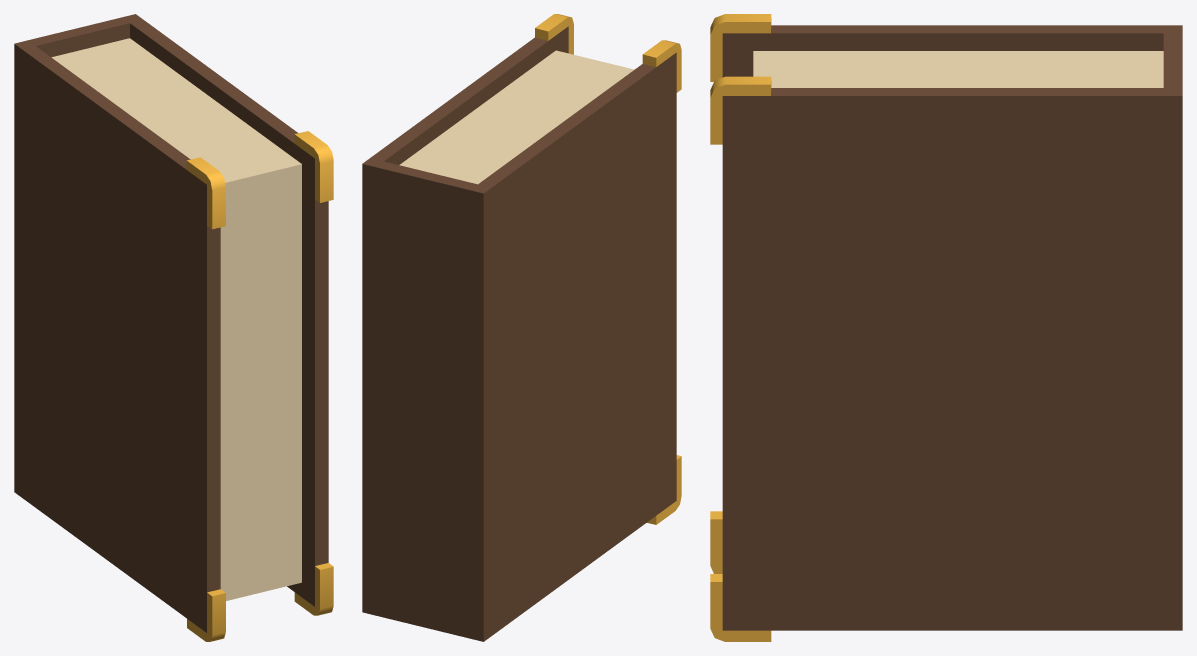
The model's file is Book_2.fbx.
3 views of the same model, side by side, from view 1: azimuth 30°, elevation 25°; view 2: azimuth 150°, elevation 25°; view 3: azimuth 270°, elevation 25° (orthographic). The views are drawn at different scales.
Parts seen in each view (by area): view 1: Book_2; view 2: Book_2; view 3: Book_2.
Boxes of the visible parts, x1,y1,x2,y2 form: Book_2: (14,14,333,641); Book_2: (362,14,681,641); Book_2: (710,14,1182,641).
Bounding box in the file's own units: 0.0712 × 0.2617 × 0.201.
